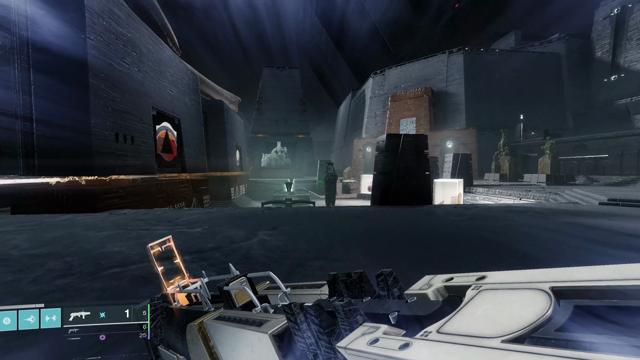pyramid: (156, 122, 177, 161)
traveler: (236, 149, 240, 166)
